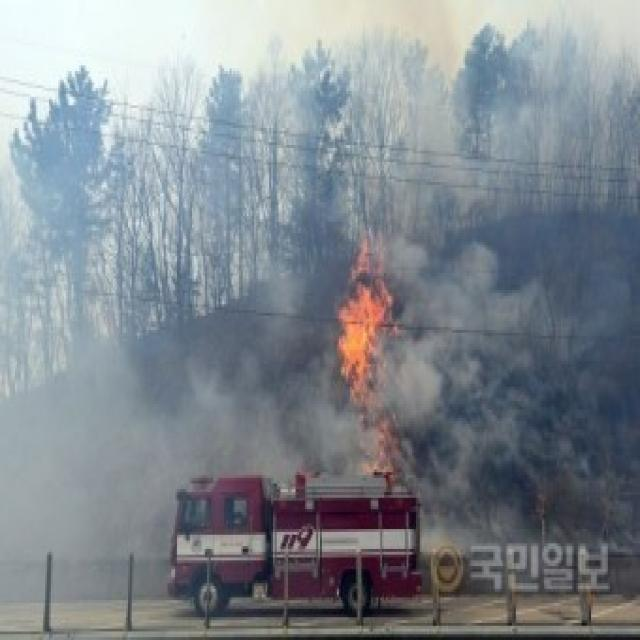Fire: (324, 247, 416, 496)
Smoke: (399, 187, 640, 536), (0, 88, 137, 450), (138, 268, 356, 492)
